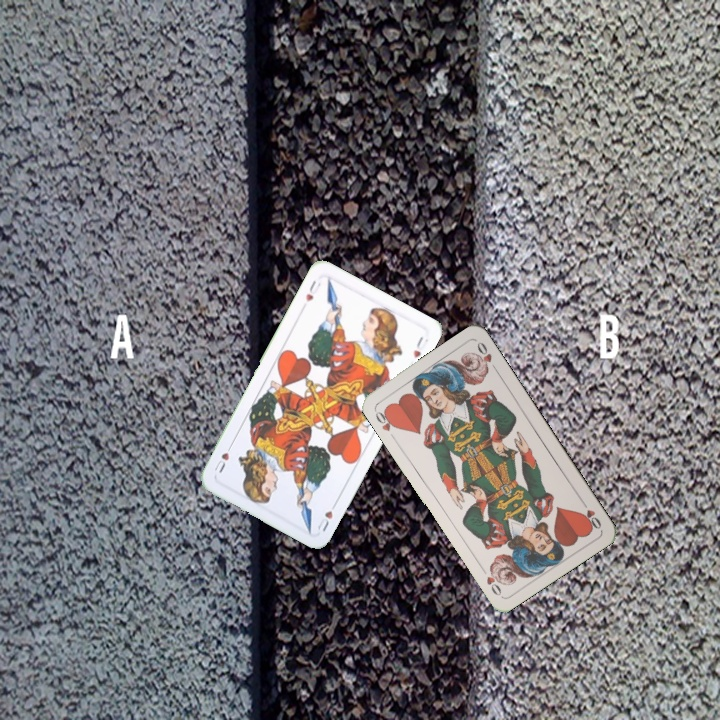HO: (577, 495, 604, 532), (370, 405, 400, 434)
HU: (313, 497, 340, 534), (301, 276, 324, 304)
